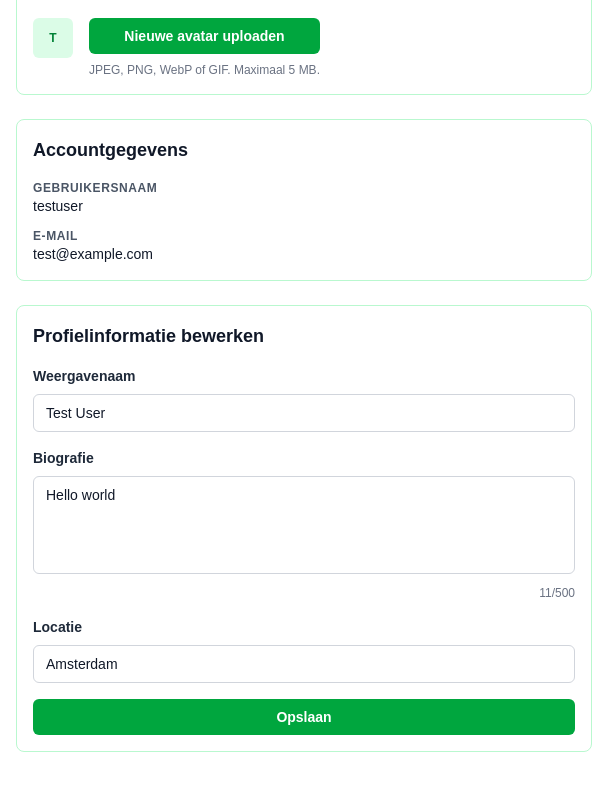
Scenario: ProfileForm › shows fallback error message when saving fails with non-Error
This screenshot has width=609, height=800.
(page scrolled)
Click the button with test id "save-button". click: coordinates (304, 717)
box: [33,699,575,735]
(page scrolled)
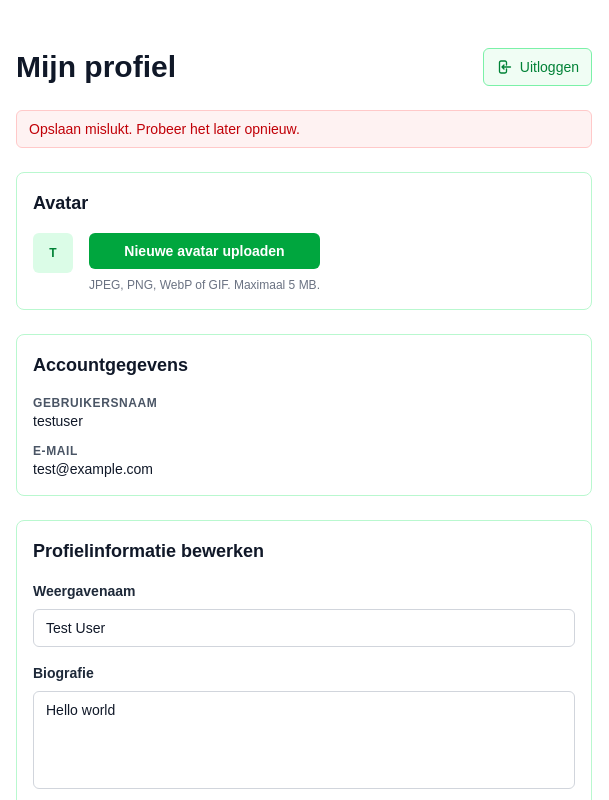
Result: the text "Opslaan mislukt. Probeer het later opnieuw." is shown at [16,110,592,148]
